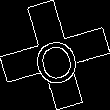O_N: (27, 24, 83, 86)
